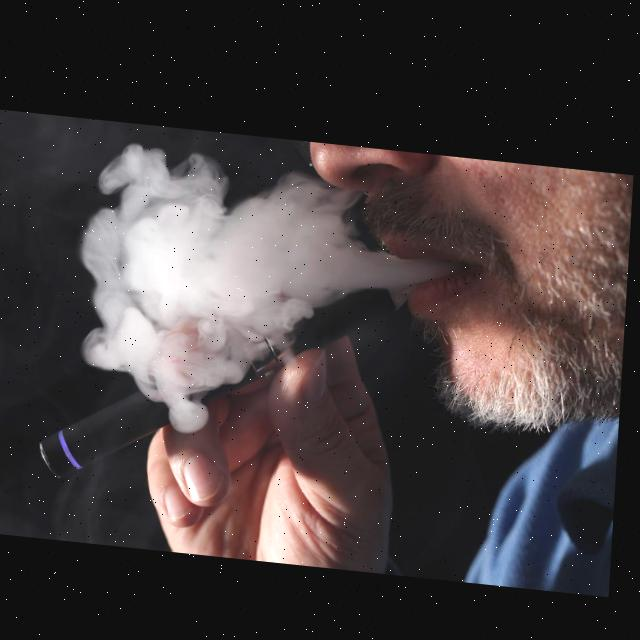vape: (42, 244, 413, 506)
